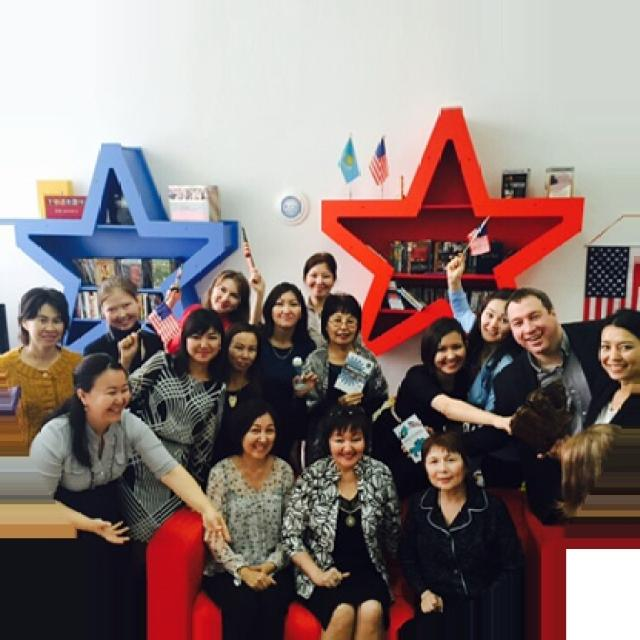body: (26, 352, 234, 556), (483, 287, 617, 527), (392, 427, 542, 639), (272, 402, 406, 638), (366, 313, 525, 501), (114, 306, 232, 556), (195, 395, 298, 638), (298, 292, 391, 459), (243, 280, 320, 462), (0, 284, 86, 442), (443, 250, 520, 418), (210, 320, 278, 468), (80, 276, 168, 381), (246, 251, 340, 347), (546, 418, 625, 518), (164, 268, 250, 356), (583, 304, 640, 429)
